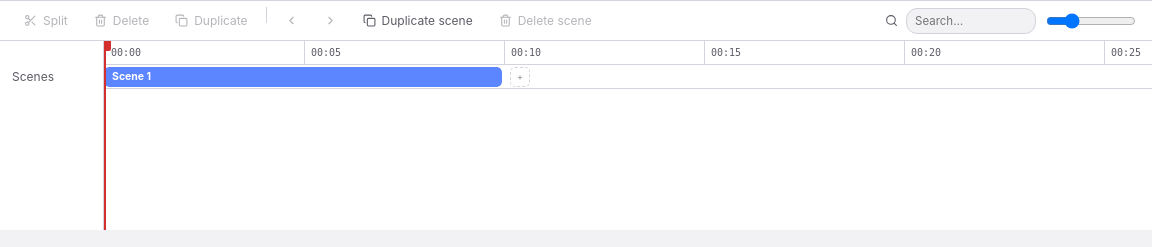
Test: Timeline — renaming a scene › turns the name into a field on double-click
Step 1. Double-click the text "Scene 1" → (132, 77), box [112, 69, 151, 85]
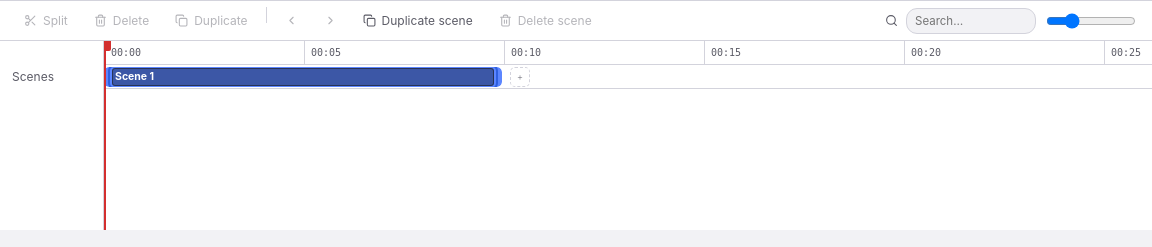
Now the field with class "timeline-scene-name-input" is shown, box [112, 68, 494, 86]
